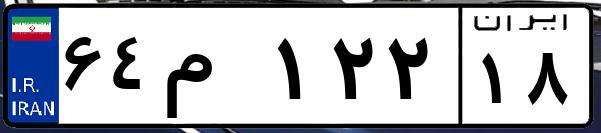1: (270, 28, 330, 110), (475, 38, 525, 113)
2: (385, 28, 445, 110), (330, 28, 385, 110)
4: (110, 28, 158, 98)
6: (57, 26, 110, 100)
8: (525, 38, 570, 115)
م: (158, 20, 270, 120)
